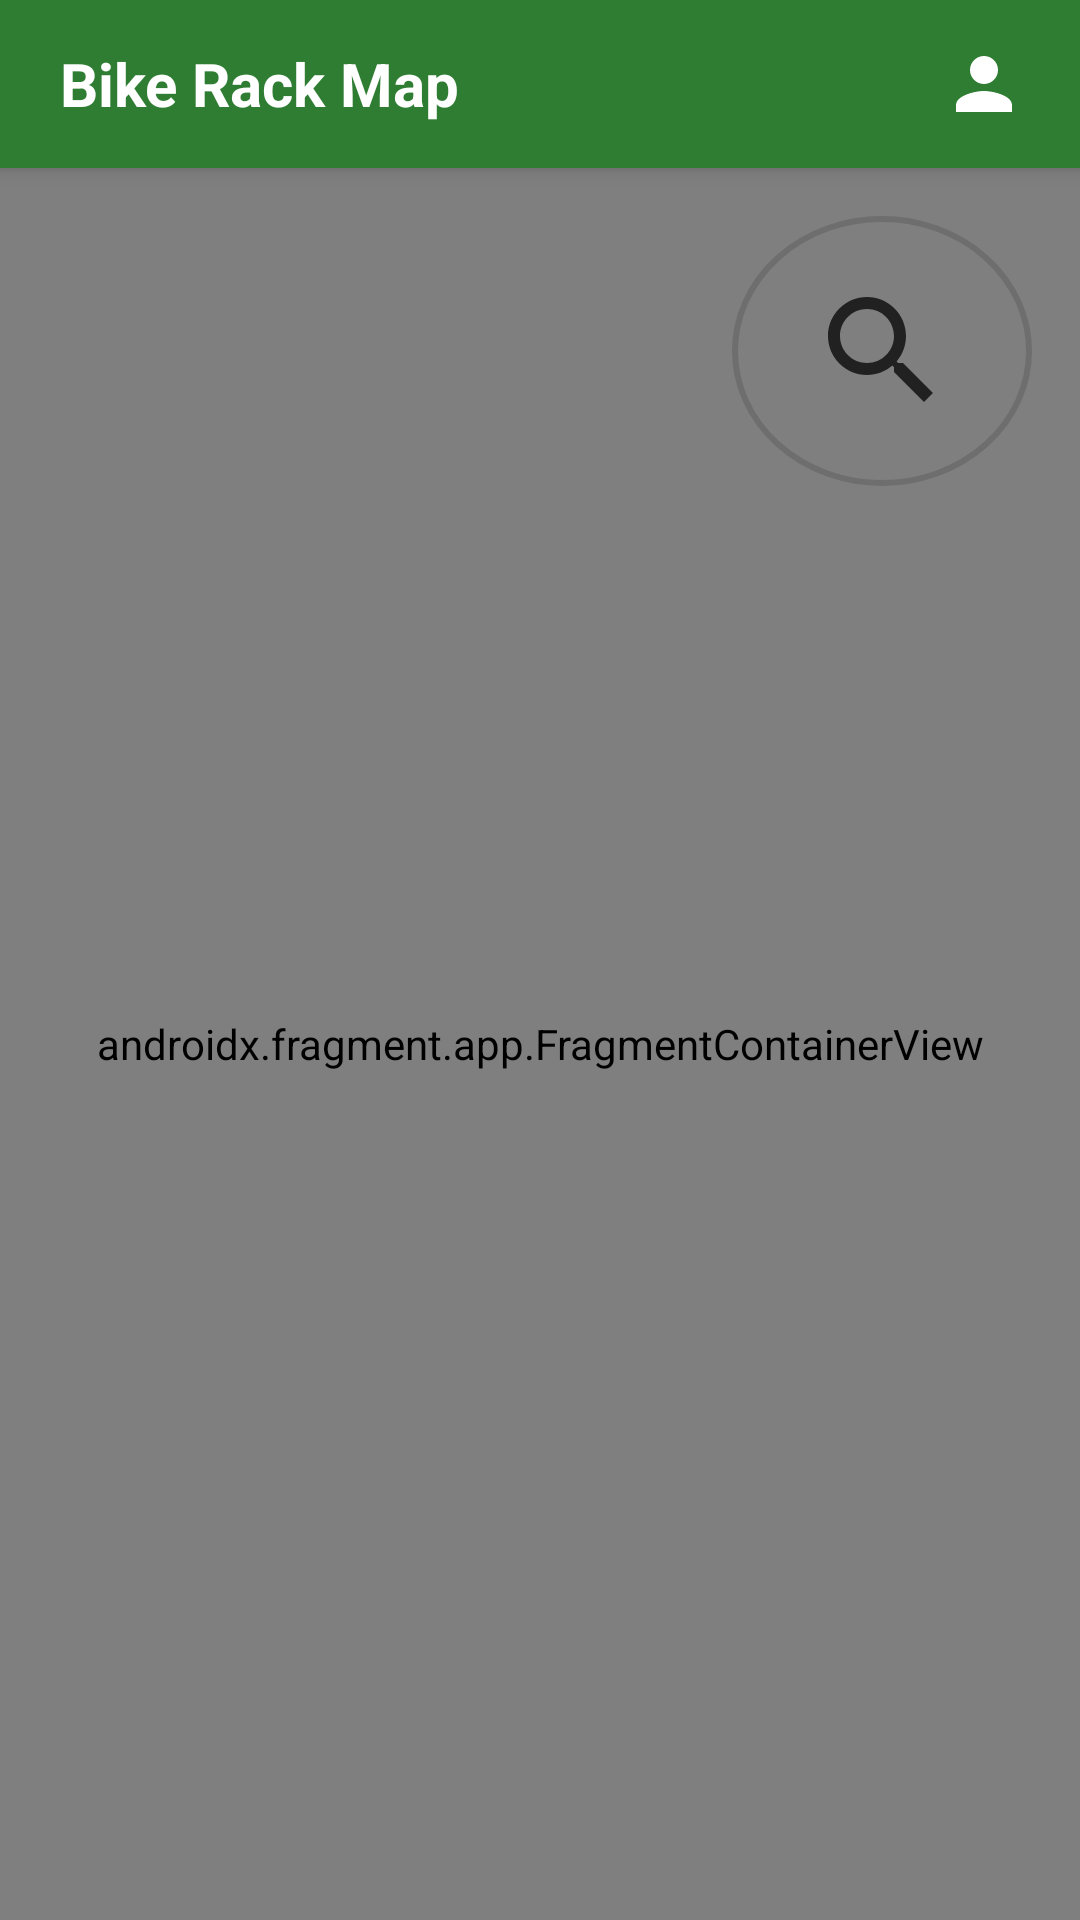

Point at icon controls on the screen. Image size 1080*1920, points as (x=x, y=y).
Profile: (x=984, y=84)
Search bike racks: (x=880, y=349)
